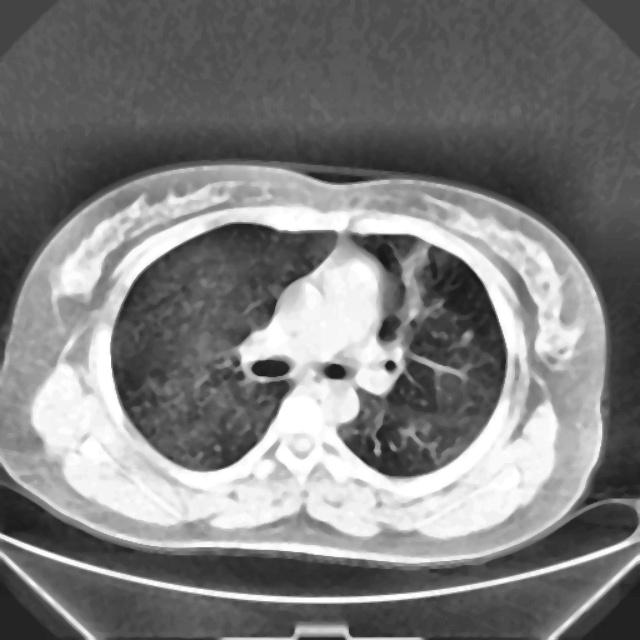covid: (2, 160, 609, 566)
